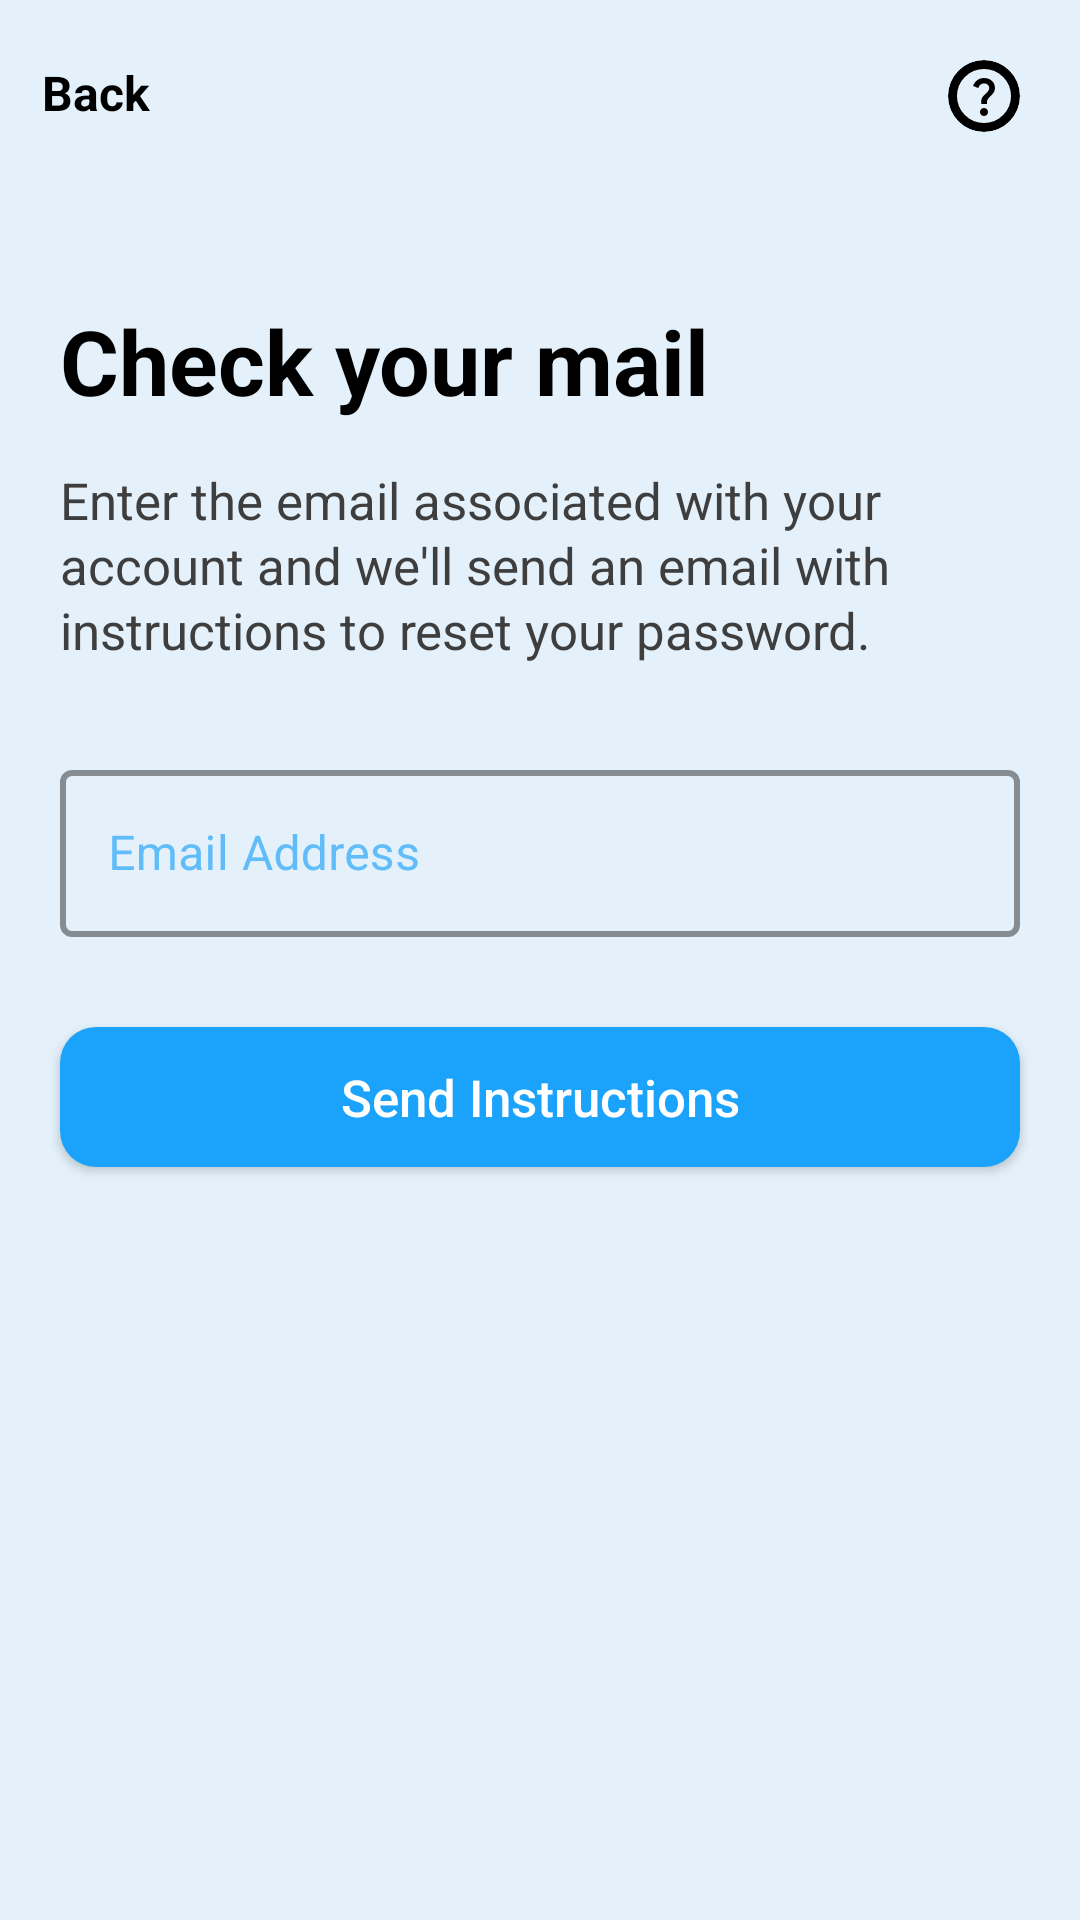

Named icons in this screenshot (1080×1920) and their bounding boxes, (x1, y1, x2, y2):
question mark: (948, 60, 1020, 132)
